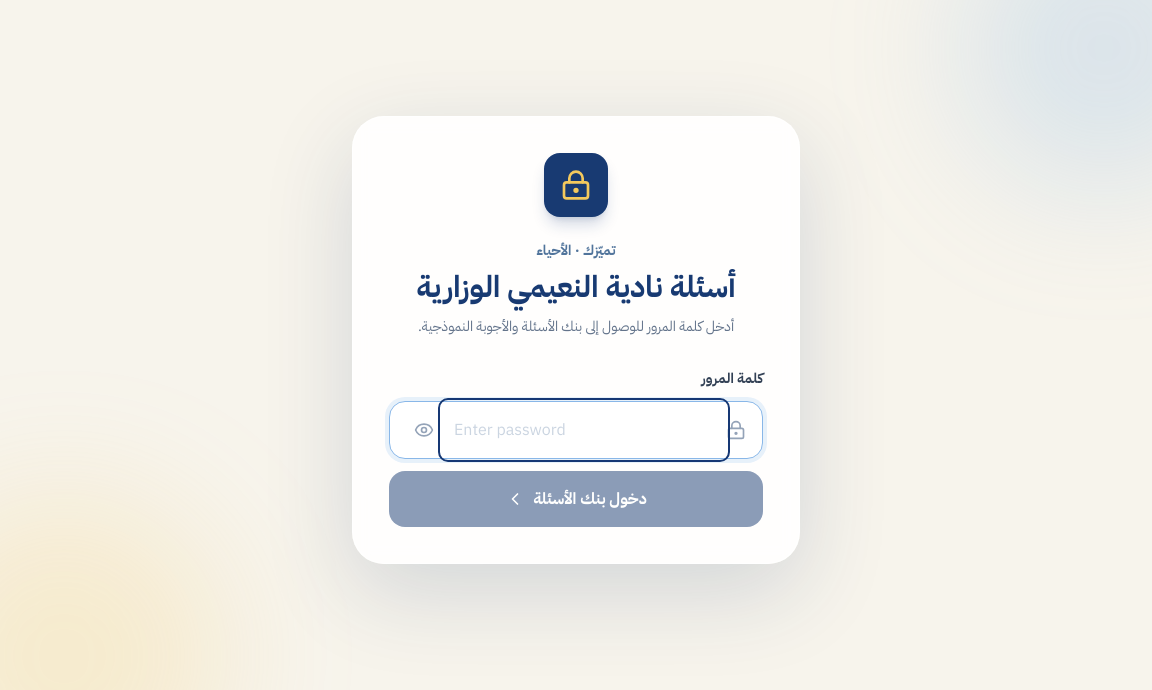
Test case: NadiaMinisterialQuestions › unlocks with the configured password
Step 1. Type "nadiabio123" into the password field labelled "كلمة المرور" → [584, 430], box [442, 402, 726, 458]
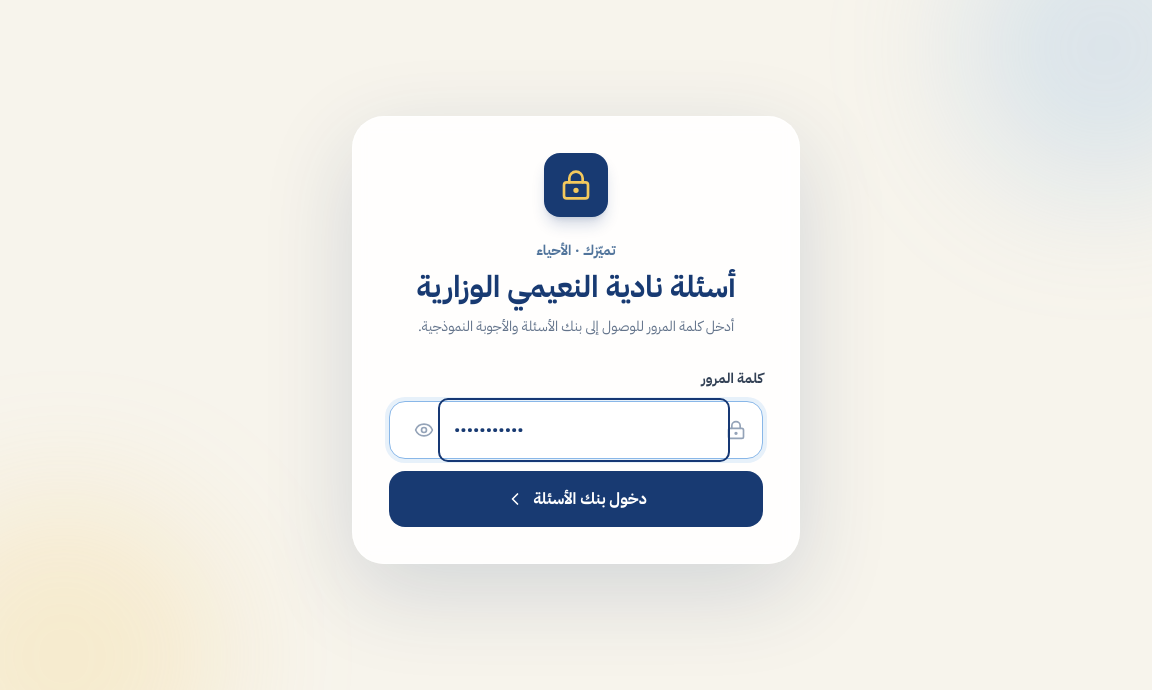
Step 2. Click the button "دخول بنك الأسئلة" → [576, 499], box [389, 471, 763, 527]
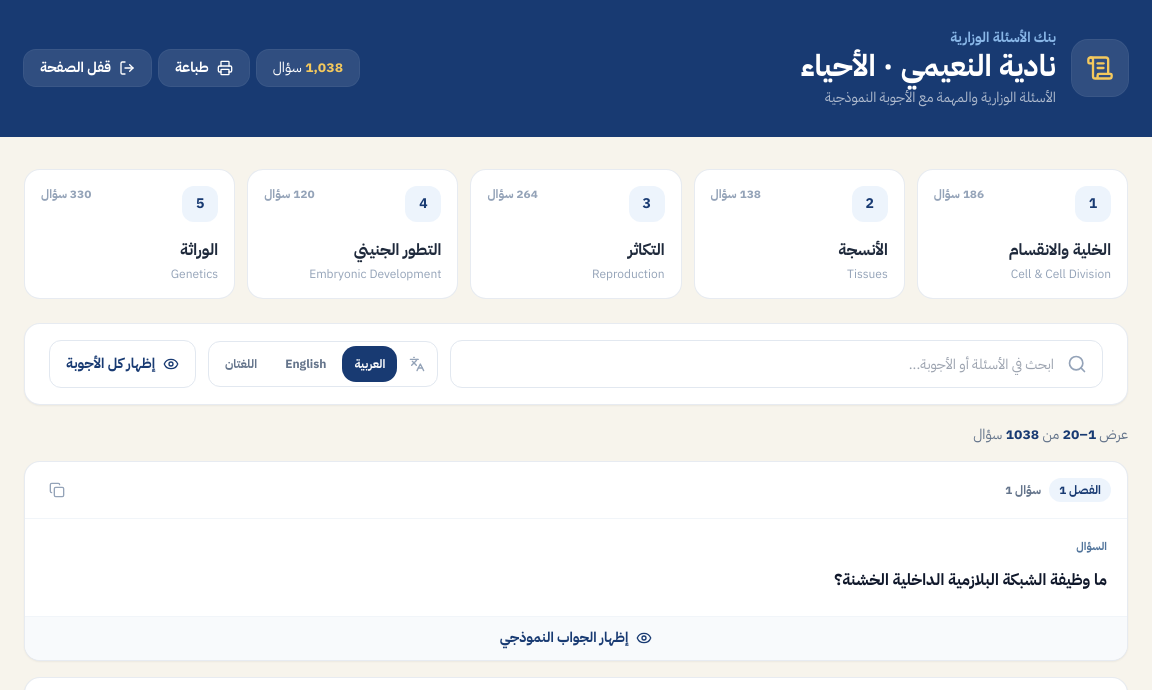
Expected: the heading "نادية النعيمي · الأحياء" is shown, [801, 48, 1056, 84]
